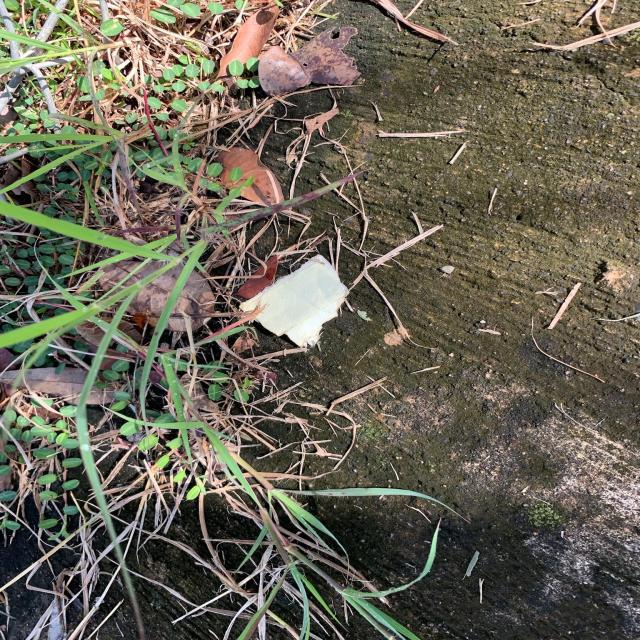litter: (238, 255, 348, 349)
